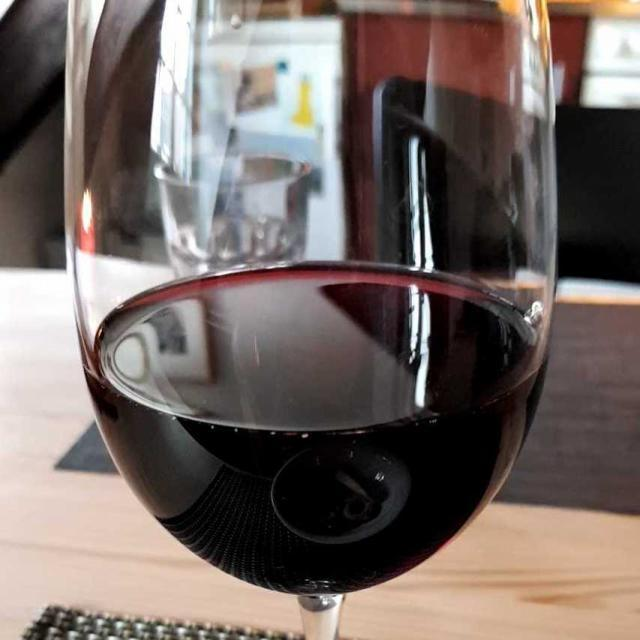wine: (88, 264, 550, 600)
